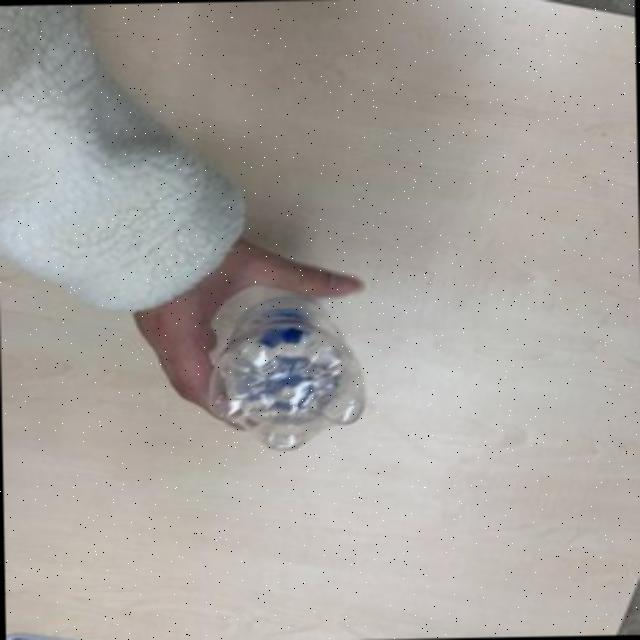bottle: (203, 278, 370, 461)
